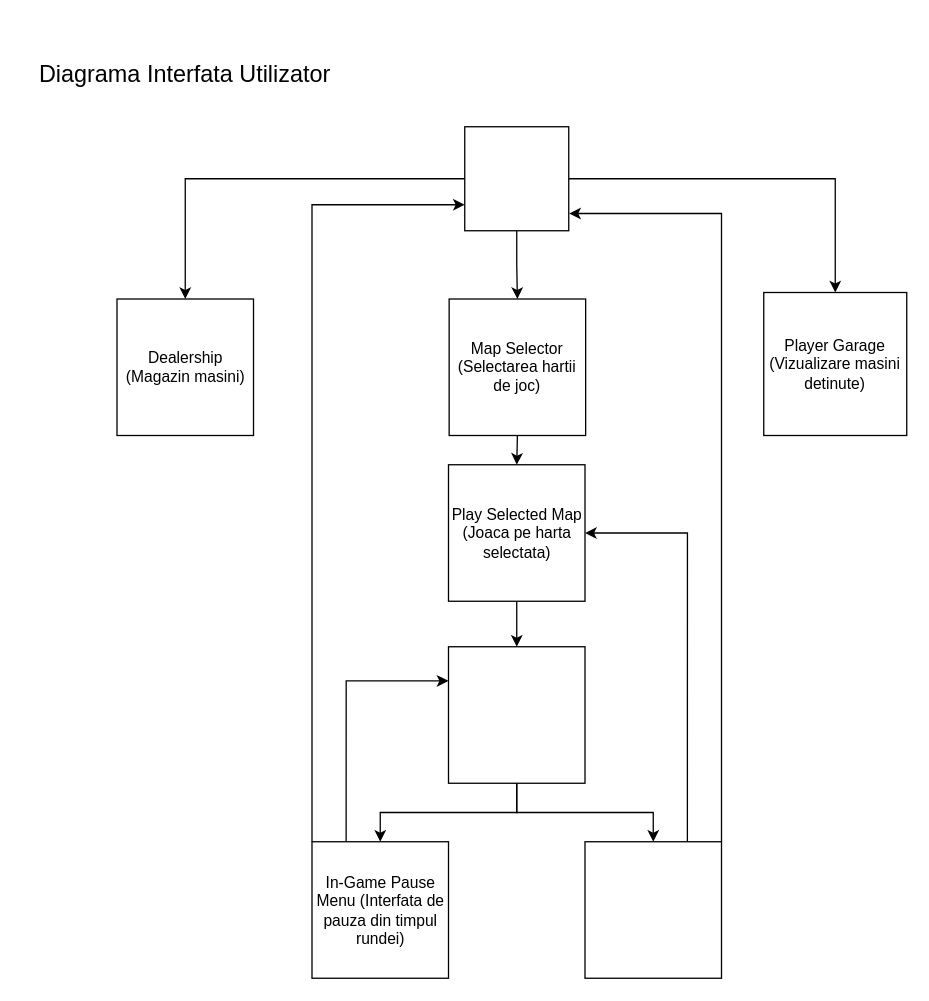
The diagram is 929 pixels wide and 1001 high, and some of its shapes have lost their labels. The shapes that lost their labels are listed below. From the top down, each one's centre as x and y in pixels, then its label:
At point (516, 178): "Main Menu".
At point (516, 714): "In-game Menu (Interfata din timpul rundei)".
At point (653, 909): "In-Game Ending Menu (Interfata de la finalul rundei)".
